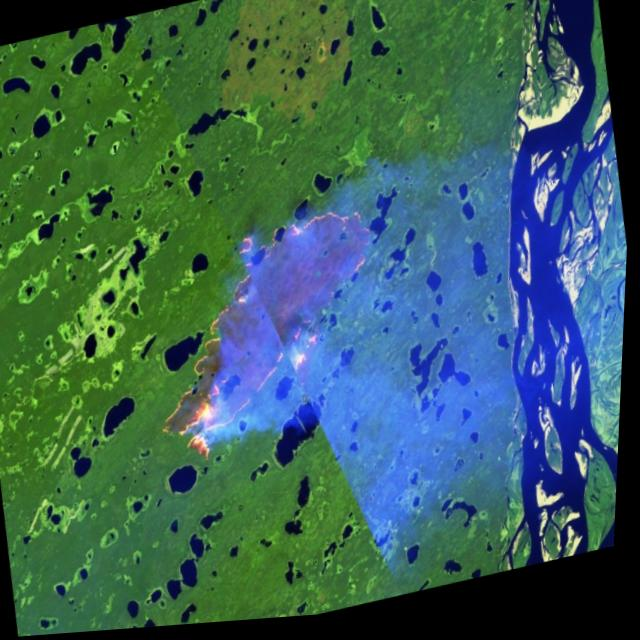fire: (131, 200, 407, 479)
